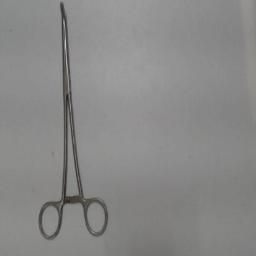Lahey Forceps: (36, 0, 112, 244)
